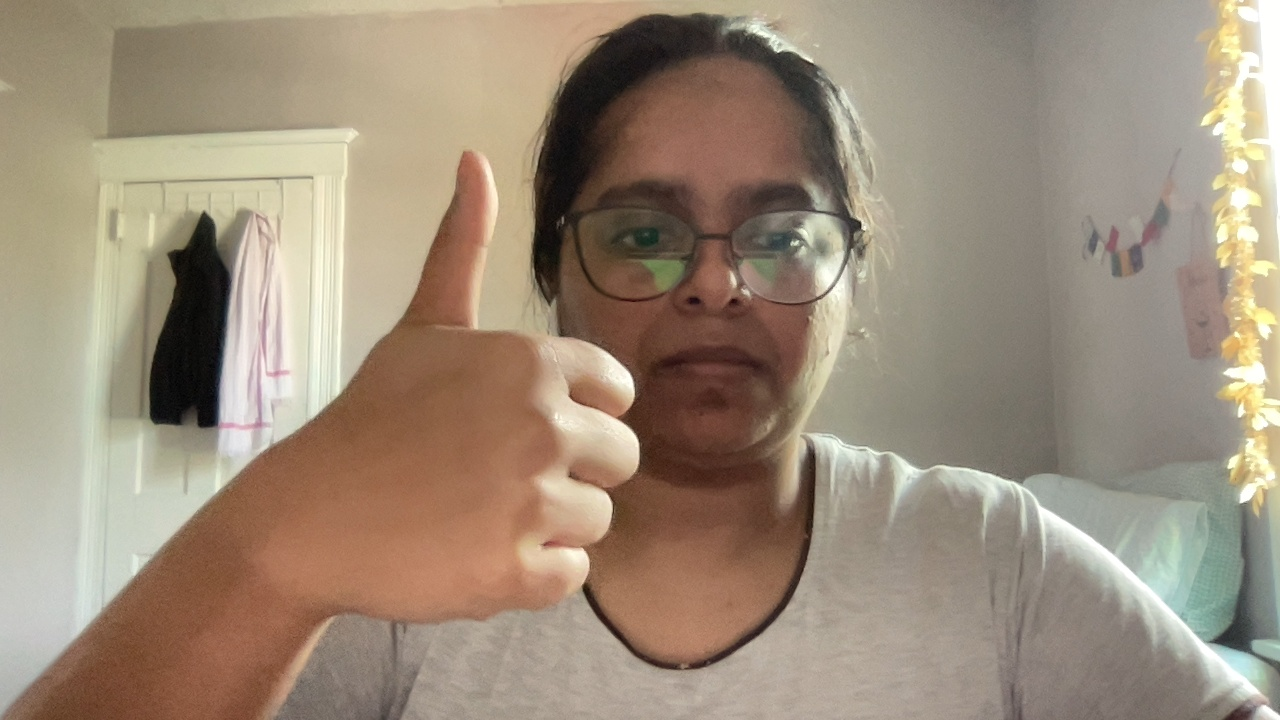ThumbsUp: (381, 146, 646, 626)
